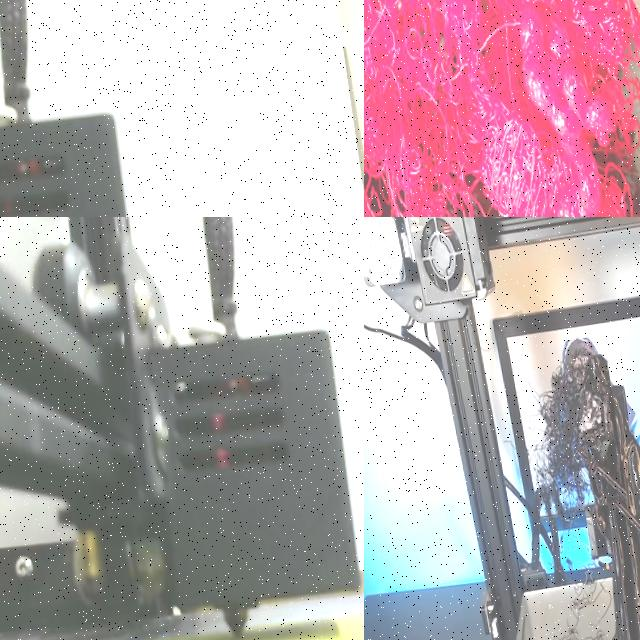spaghetti: (364, 0, 640, 217), (539, 338, 611, 513)
